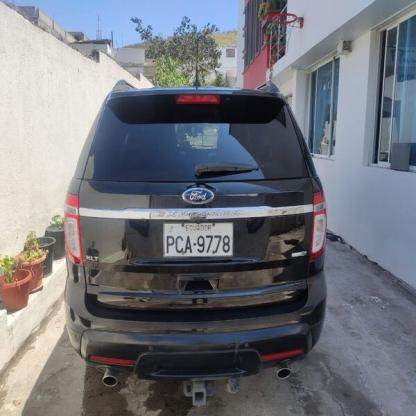Placa: (161, 222, 237, 259)
